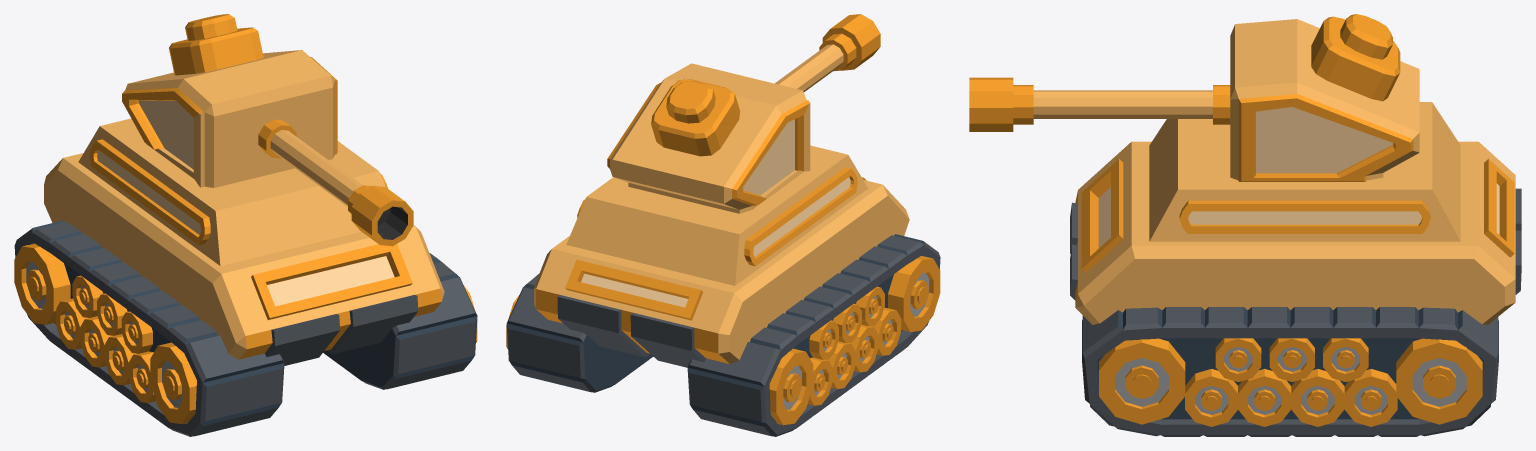
Rendered from tank3.fbx.
3 renders of one model, left to right at view 1: azimuth 30°, elevation 25°; view 2: azimuth 150°, elevation 25°; view 3: azimuth 270°, elevation 25°, orthographic. The views are drawn at different scales.
Visible parts, largest first — view 1: tank3 (×2), gun; view 2: tank3 (×2), gun; view 3: tank3 (×2), gun.
Boxes of the visible parts, box(x1,y1,x2,y2) form: tank3 (×2): box(14, 14, 477, 436); gun: box(258, 119, 413, 246); tank3 (×2): box(506, 63, 940, 436); gun: box(775, 14, 880, 92); tank3 (×2): box(1070, 14, 1521, 436); gun: box(969, 77, 1230, 131).
Bounding box in the file's own units: 9.61 × 9.98 × 14.48.
1 material, 1 textured.
